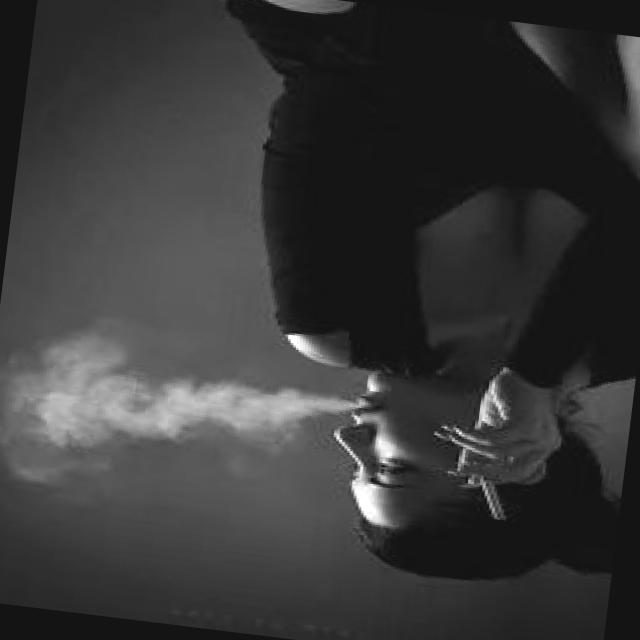cigarette: (469, 474, 510, 524)
